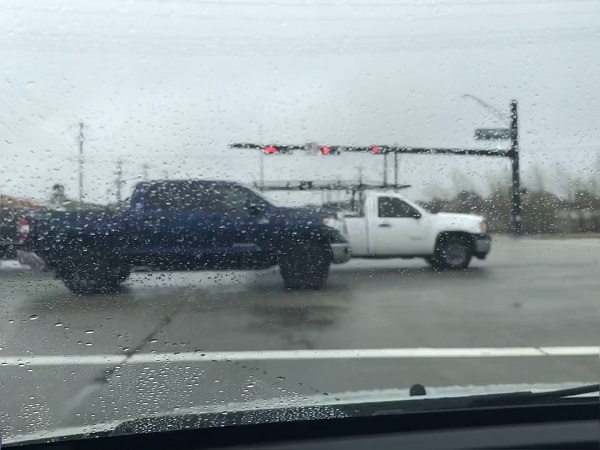traffic light: (257, 143, 276, 152), (368, 143, 382, 155), (318, 146, 330, 153)
truck: (13, 178, 341, 292), (290, 193, 490, 271)
